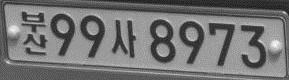3: (239, 24, 268, 69)
7: (208, 22, 236, 67)
8: (148, 18, 176, 64)
9: (178, 19, 205, 64), (78, 14, 106, 57), (50, 12, 76, 56)
부산_V: (20, 10, 47, 56)
사: (111, 19, 137, 58)
